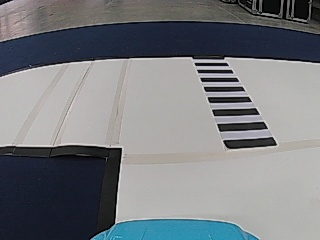CrossWalk: (194, 60, 277, 146)
